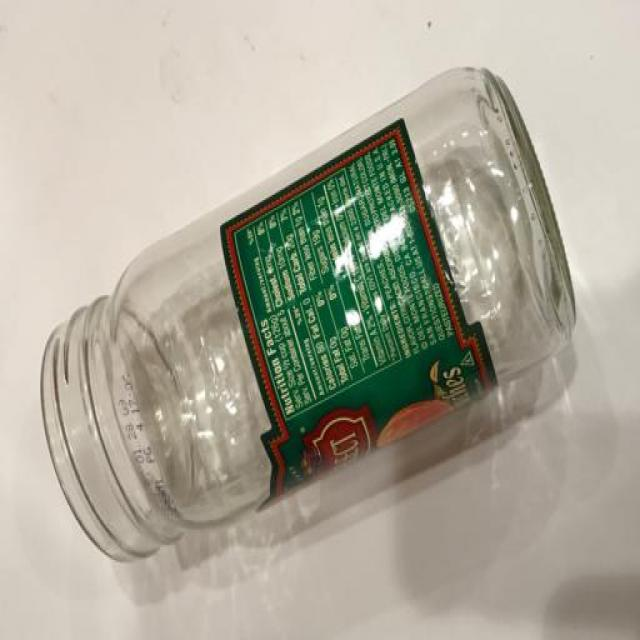glass: (39, 59, 627, 603)
